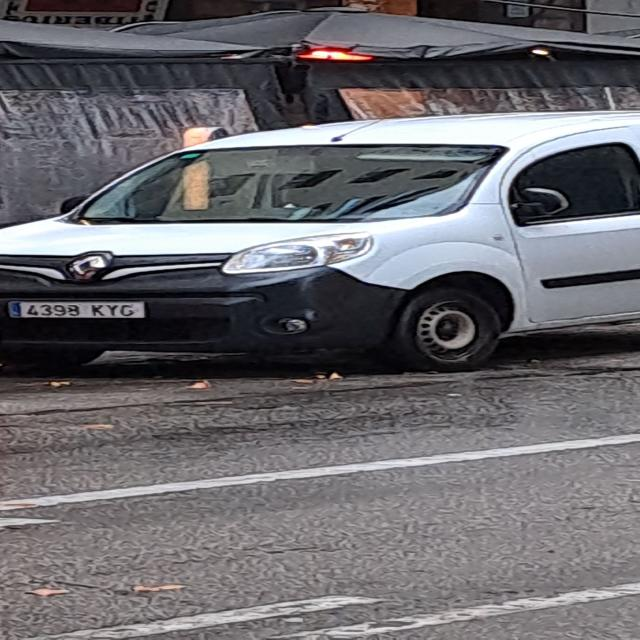license_plate-34Td: (8, 301, 145, 319)
